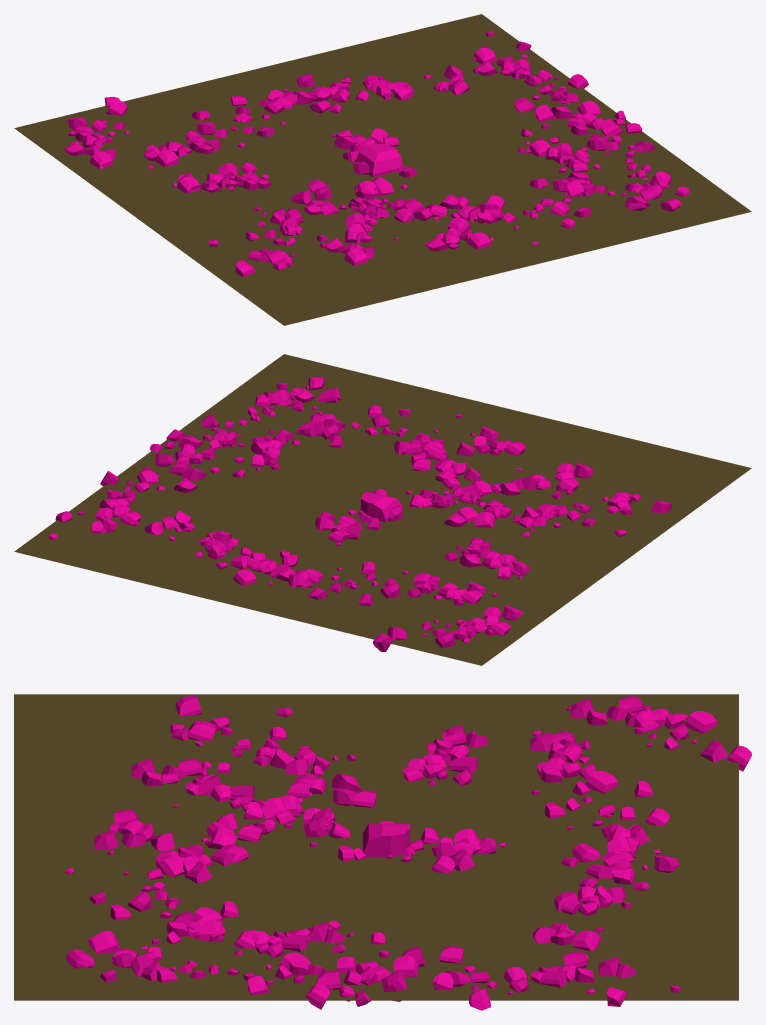
Rendered from Mine.fbx.
The picture shows the model from 3 angles, top to bottom: view 1: azimuth 30°, elevation 25°; view 2: azimuth 150°, elevation 25°; view 3: azimuth 270°, elevation 25°; orthographic projection. The views are drawn at different scales.
Parts seen in each view (by area): view 1: Plane, Cube; view 2: Plane, Cube; view 3: Plane, Cube, Cube Duplicator|Cube - copy|Dupli|57, Cube Duplicator|Cube - copy|Dupli|256.
Part boxes in pixels (left/top/right/bottom): Plane: left=14, top=14, right=751, bottom=325; Cube: left=355, top=143, right=402, bottom=177; Plane: left=14, top=354, right=751, bottom=665; Cube: left=361, top=492, right=402, bottom=522; Plane: left=14, top=694, right=738, bottom=1000; Cube: left=363, top=823, right=409, bottom=857; Cube Duplicator|Cube - copy|Dupli|57: left=685, top=711, right=717, bottom=733; Cube Duplicator|Cube - copy|Dupli|256: left=585, top=771, right=617, bottom=793.
Bounding box in the file's own units: 1018 × 1018 × 64.62.
